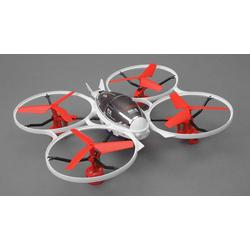drone: (13, 63, 234, 187)
